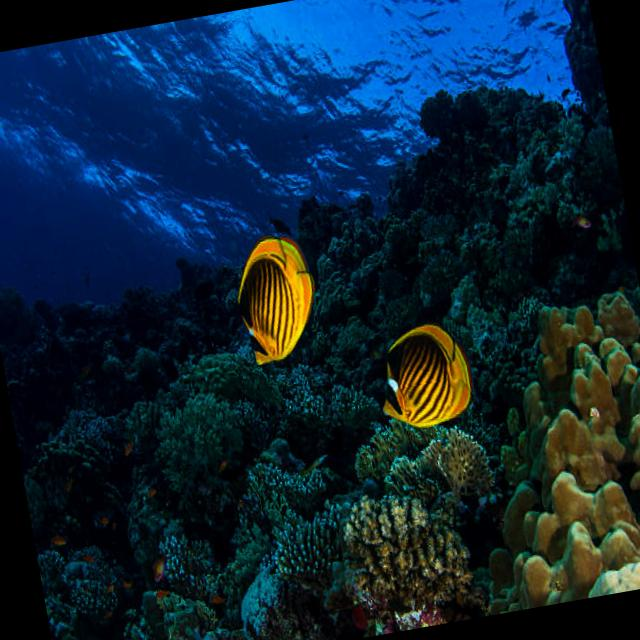ButterflyFish: (224, 225, 326, 368), (367, 314, 480, 436)
